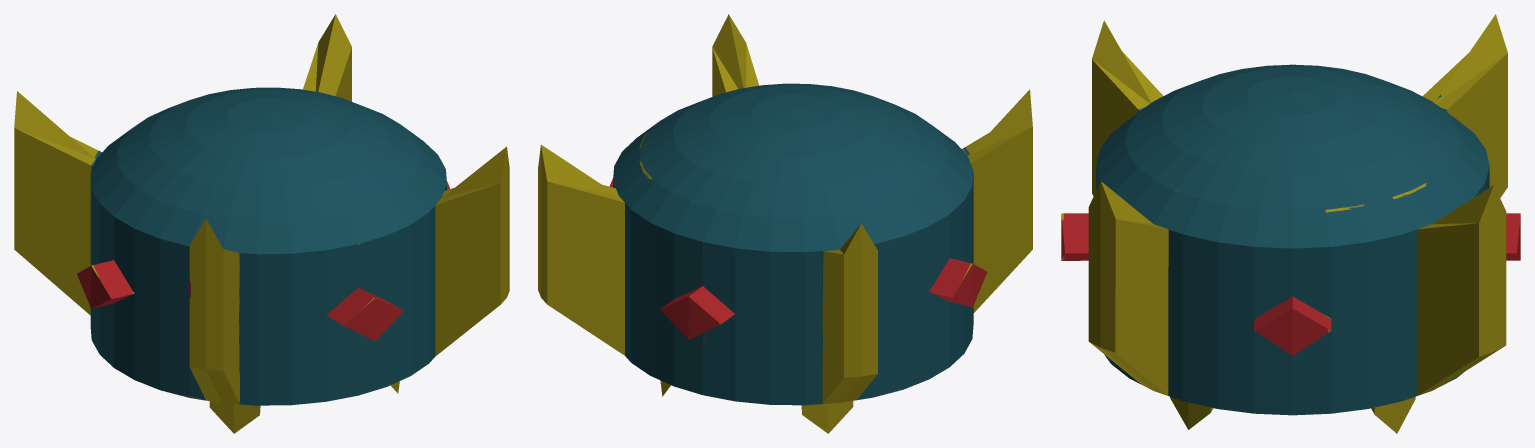
File: enemyMiniRobot.obj
The picture shows the model from 3 angles, left to right: view 1: azimuth 30°, elevation 25°; view 2: azimuth 150°, elevation 25°; view 3: azimuth 270°, elevation 25°; orthographic projection. The views are drawn at different scales.
Visible parts, largest first — view 1: 球; view 2: 球; view 3: 球.
Part boxes in pixels (<box>): 球: <box>14,14,509,433</box>; 球: <box>538,14,1032,433</box>; 球: <box>1061,14,1520,433</box>.
Bounding box in the file's own units: 2.26 × 1.64 × 2.3.
1 material, 1 textured.
